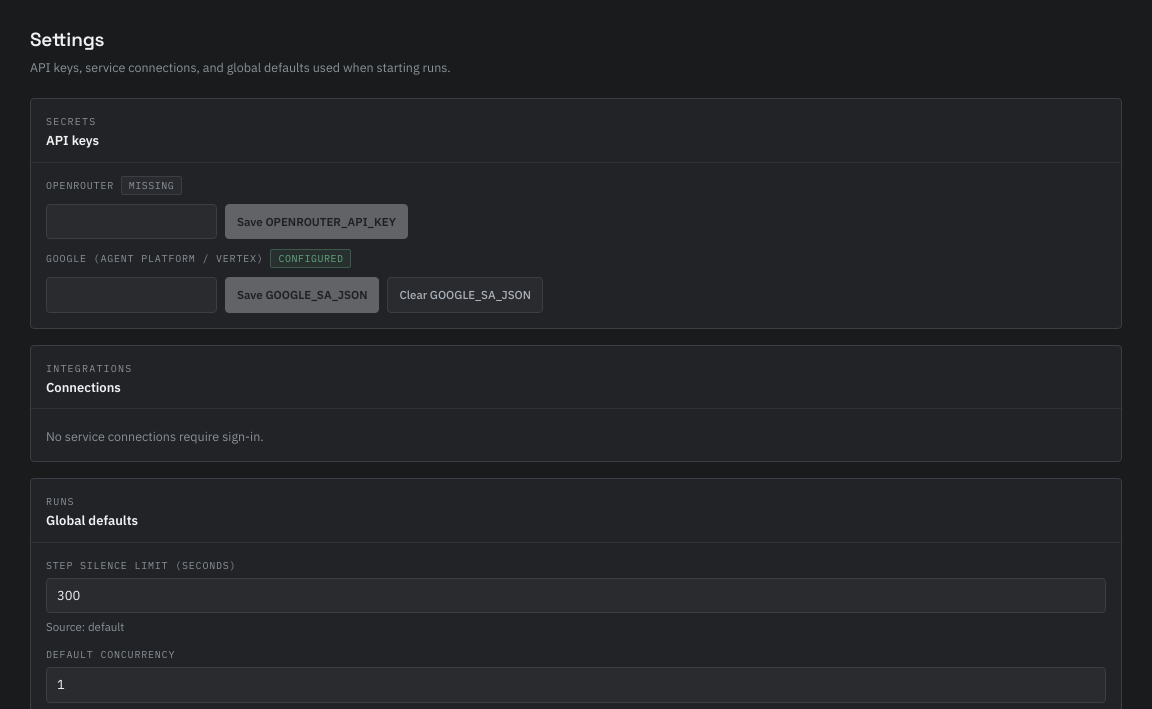
Scenario: SettingsView › disables Save for a key until a value is entered
Check: the text "OpenRouter" is shown, box 46,179 -> 114,192
Check: the button "Save OPENROUTER_API_KEY" is disabled, box 225,204 -> 408,239
Type "k" into the password field named "Set OPENROUTER_API_KEY".
click(132, 222); type("k")  # box 46,204 -> 217,239
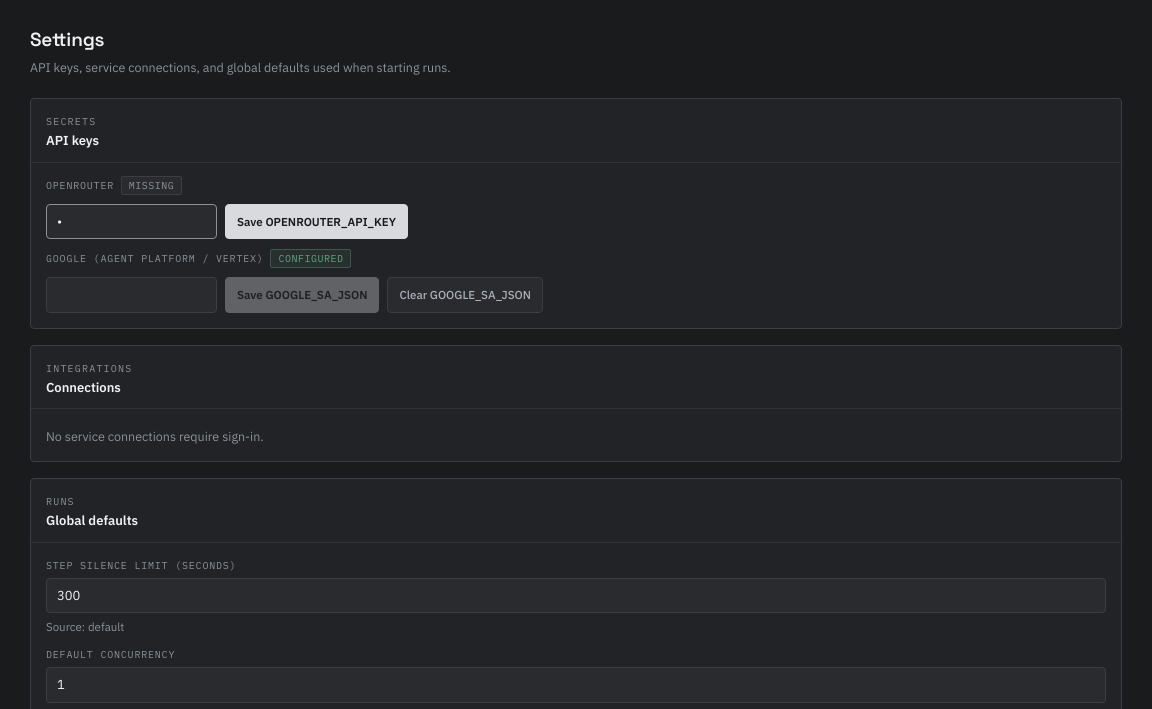
Check: the button "Save OPENROUTER_API_KEY" is enabled, box 225,204 -> 408,239
